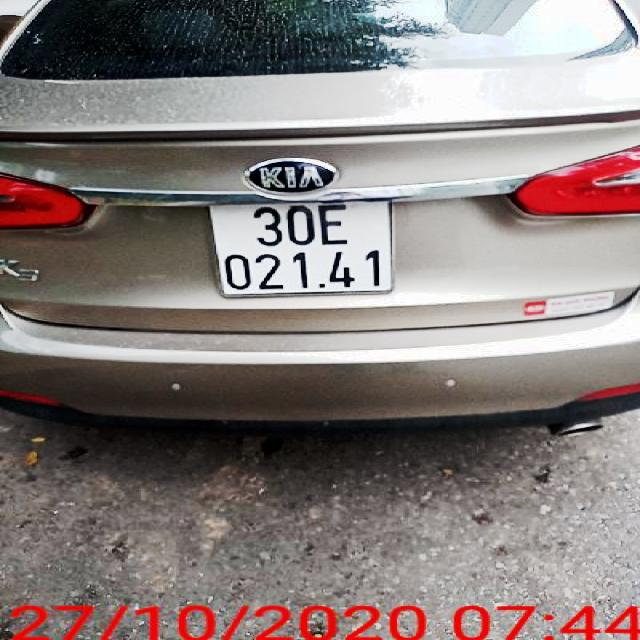license_plate: (216, 201, 393, 297)
